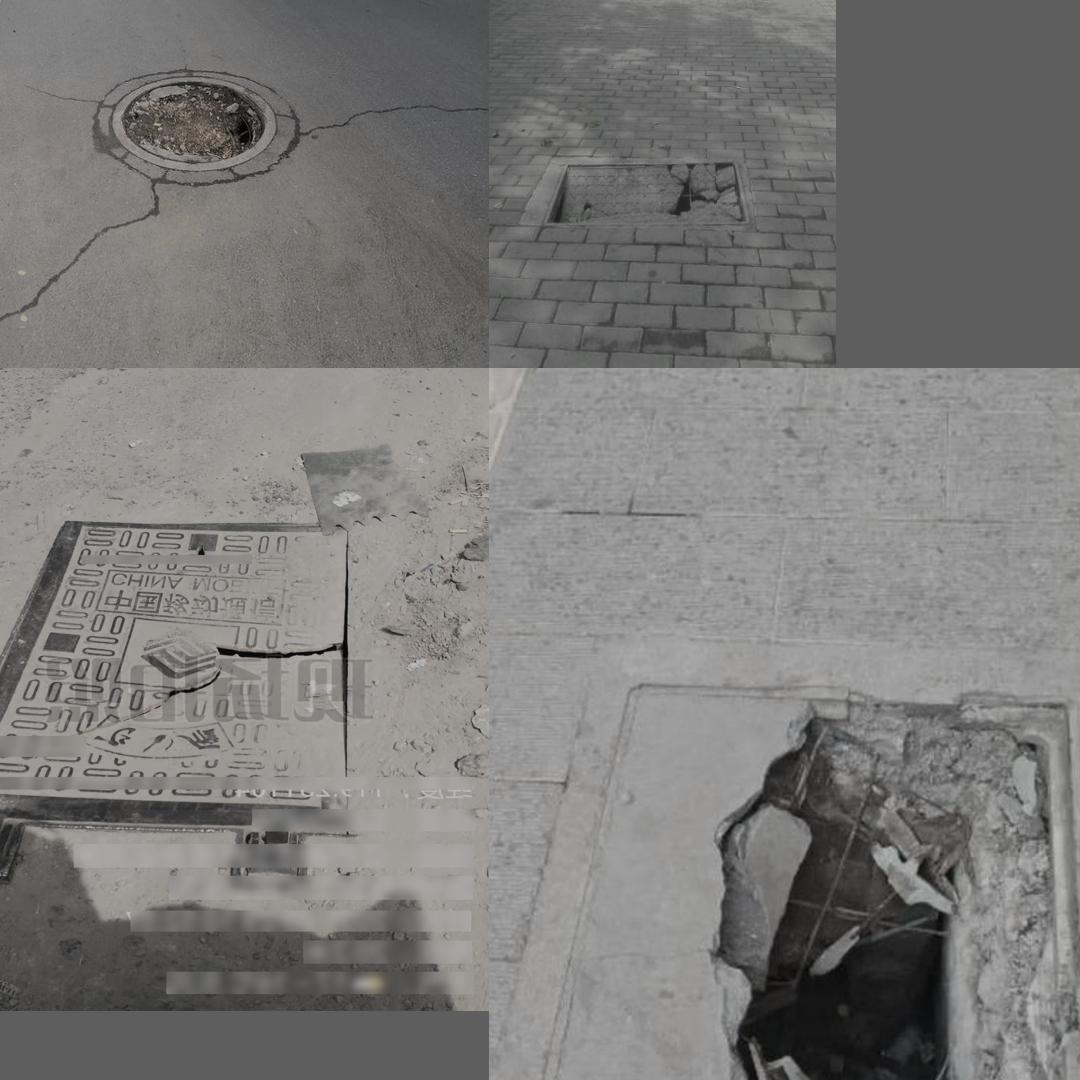broke: (521, 654, 1080, 1080), (0, 518, 359, 891), (88, 52, 311, 193), (542, 159, 753, 228)
